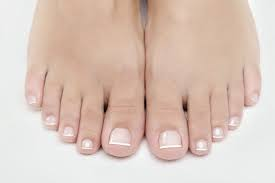nail: (43, 76, 58, 87), (139, 36, 148, 48), (127, 48, 139, 56), (74, 76, 84, 84), (97, 71, 105, 77), (116, 68, 125, 73), (156, 31, 164, 36), (30, 97, 39, 101), (153, 35, 159, 41), (85, 70, 92, 75), (121, 60, 128, 65), (33, 87, 41, 91), (110, 76, 116, 81)
